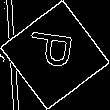P_E: (27, 33, 83, 77)
